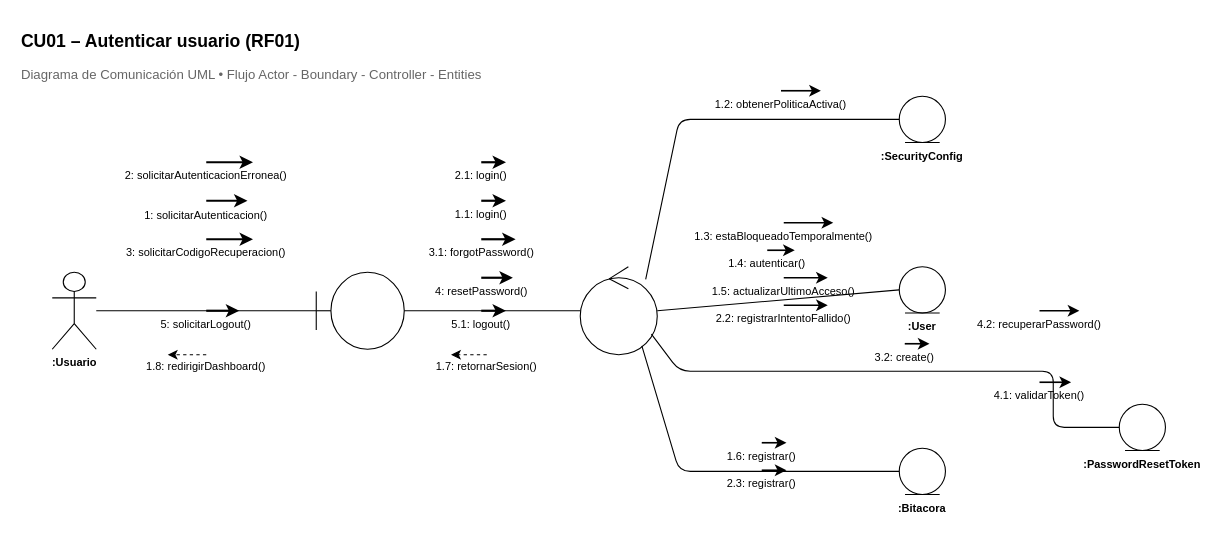
This 1220x534 diagram has some shape labels left out. Each missing label, with the centre of its shape:
":AuthController" goes at point (618, 310).
":LoginPage" goes at point (359, 310).
